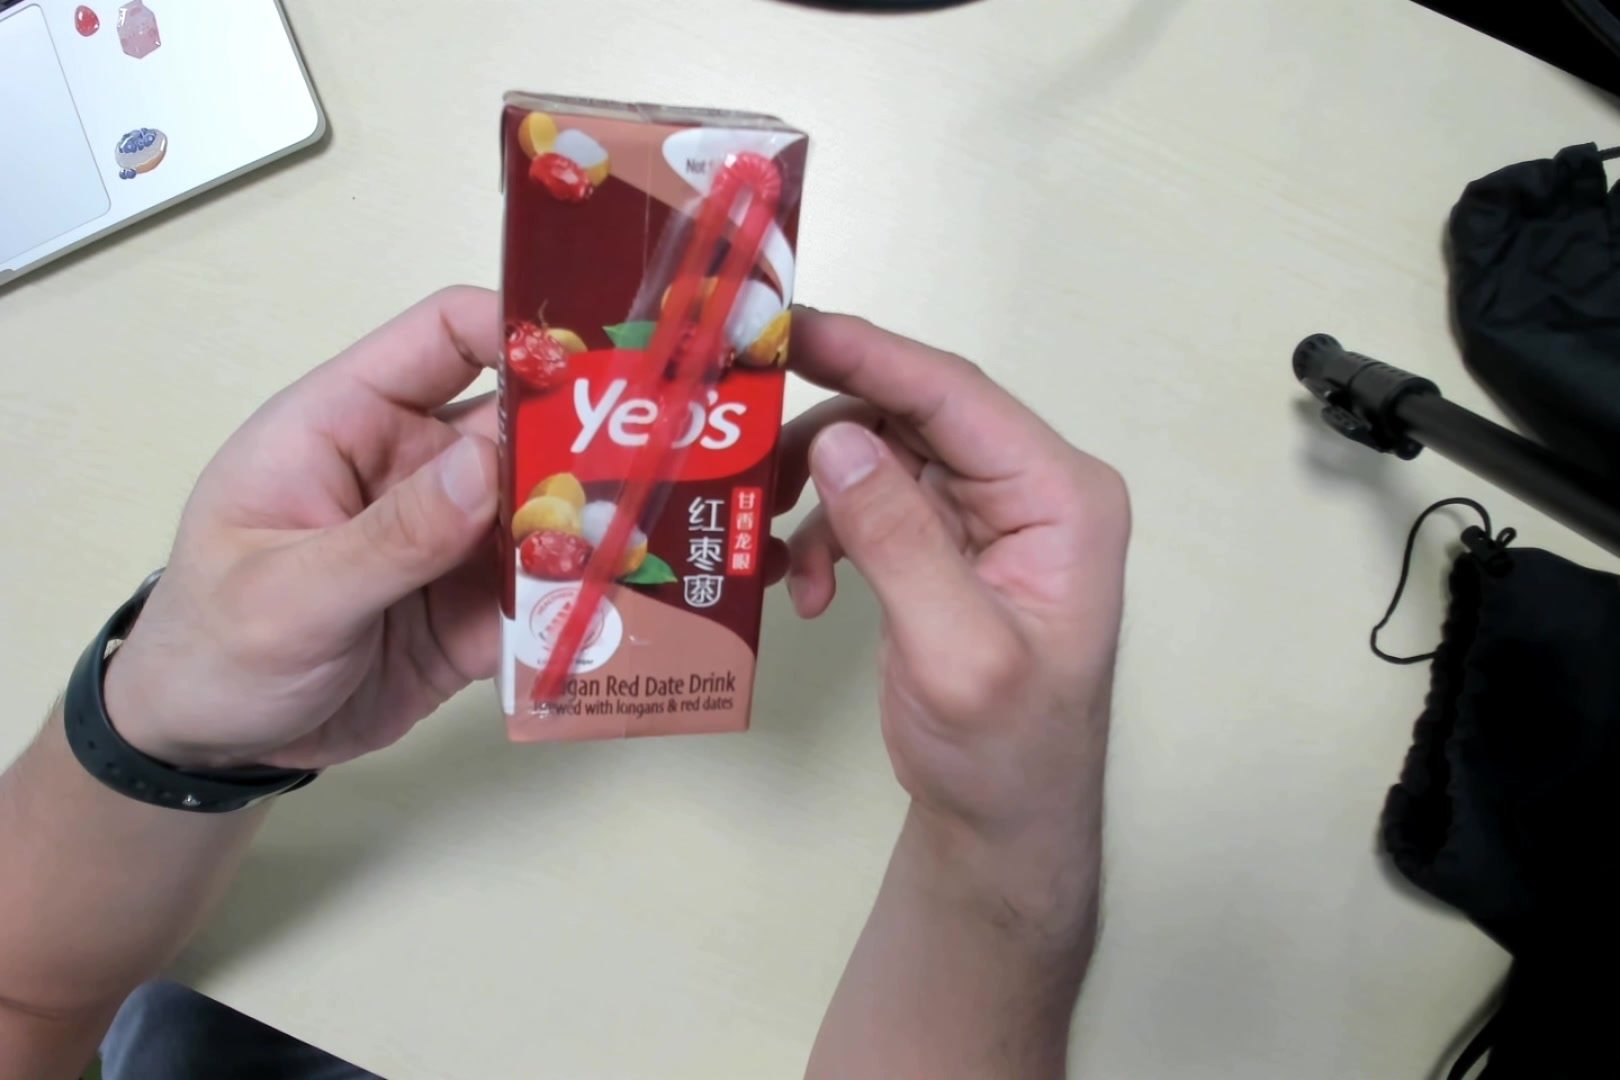TeaDrink_200-299g_Halal_Healthy: (493, 93, 809, 753)
